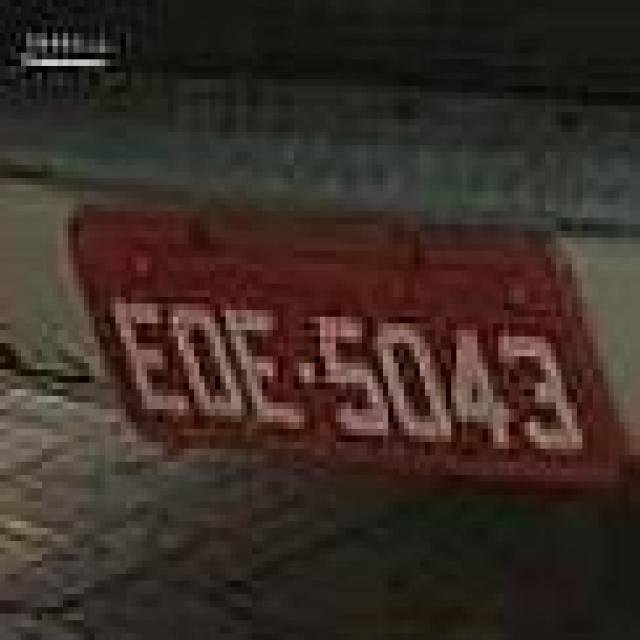0: (376, 317, 448, 461)
3: (496, 310, 588, 467)
4: (435, 298, 512, 457)
5: (320, 296, 391, 456)
E: (106, 302, 197, 434), (222, 314, 306, 440)
Q: (167, 293, 246, 435)
